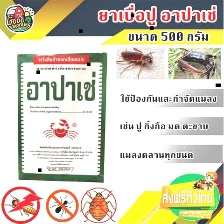insecticide: (12, 49, 111, 186)
